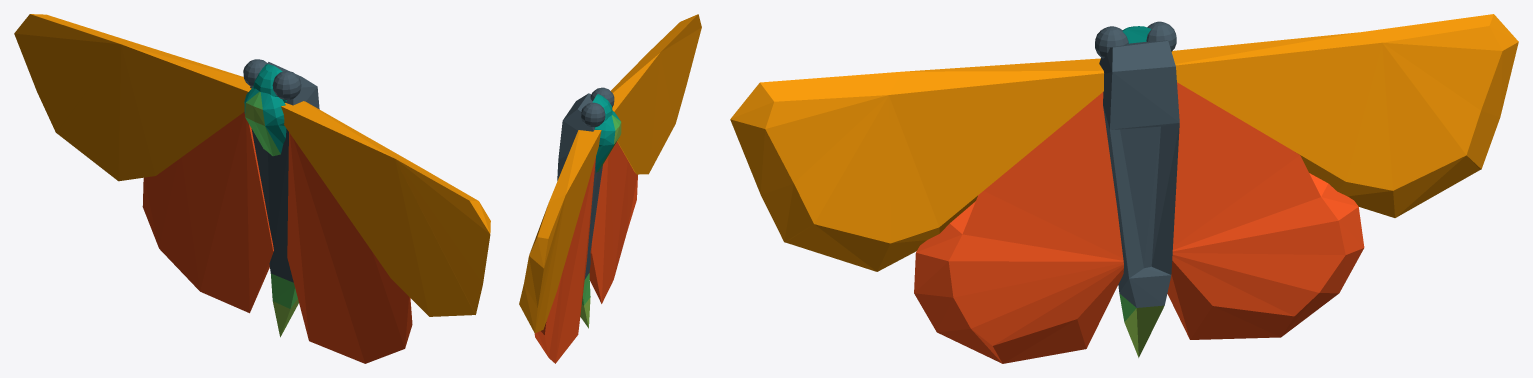
File: lil-moth.glb
The picture shows the model from 3 angles, left to right: view 1: azimuth 30°, elevation 25°; view 2: azimuth 150°, elevation 25°; view 3: azimuth 270°, elevation 25°; orthographic projection. The views are drawn at different scales.
Visible parts, largest first — view 1: group866114162; view 2: group866114162; view 3: group866114162.
Boxes of the visible parts, x1,y1,x2,y2 form: group866114162: [14, 14, 490, 363]; group866114162: [519, 14, 701, 363]; group866114162: [730, 14, 1518, 363].
Size of the model in its own units: 1.81 by 2.79 by 6.08.
